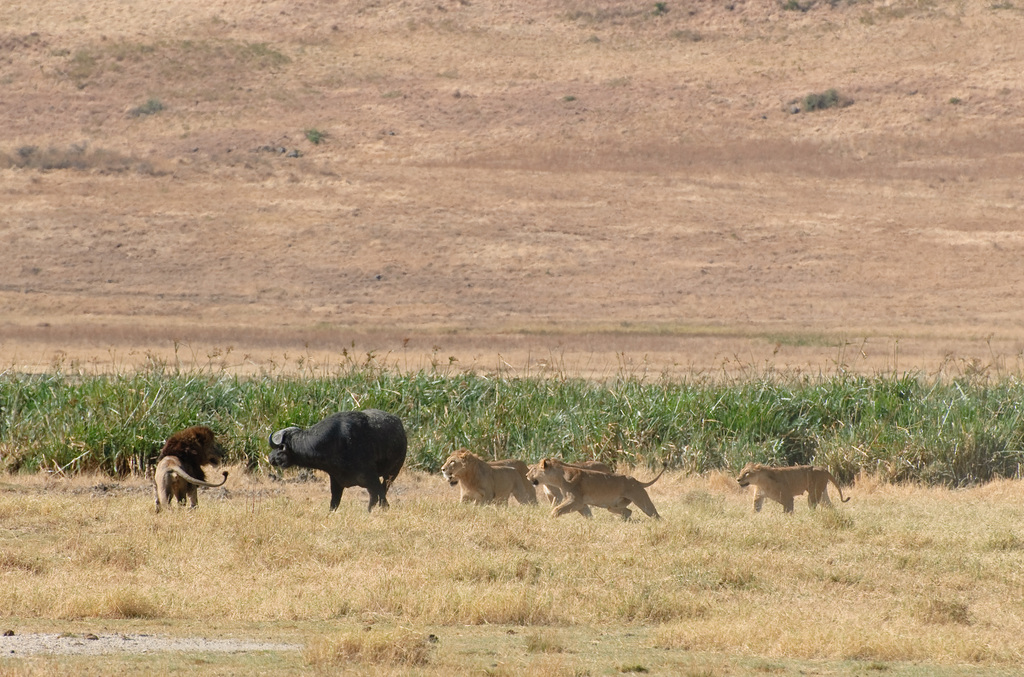Animal: (265, 404, 406, 512), (522, 457, 668, 518), (152, 423, 226, 510), (735, 458, 850, 511), (525, 453, 612, 520), (444, 447, 539, 507), (440, 448, 529, 509)
